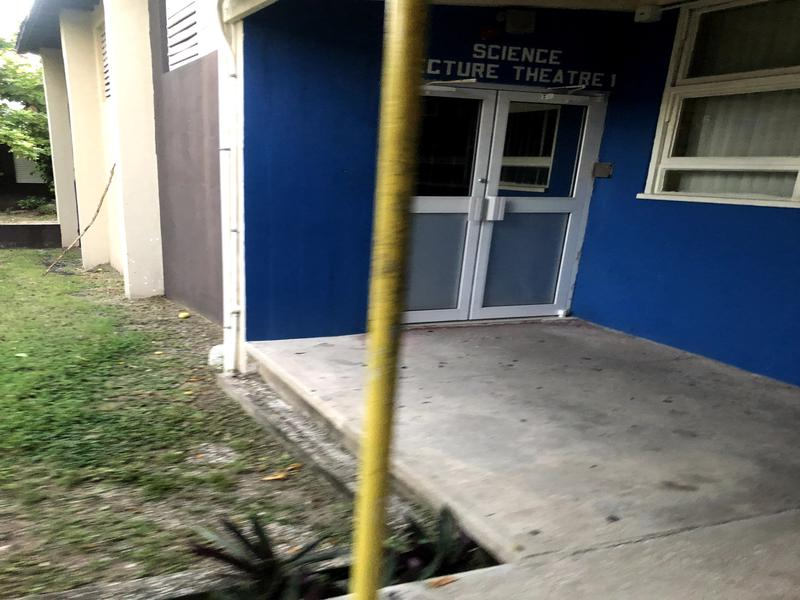18.0051836_-76.7497262_pclt1: (382, 19, 628, 351)
